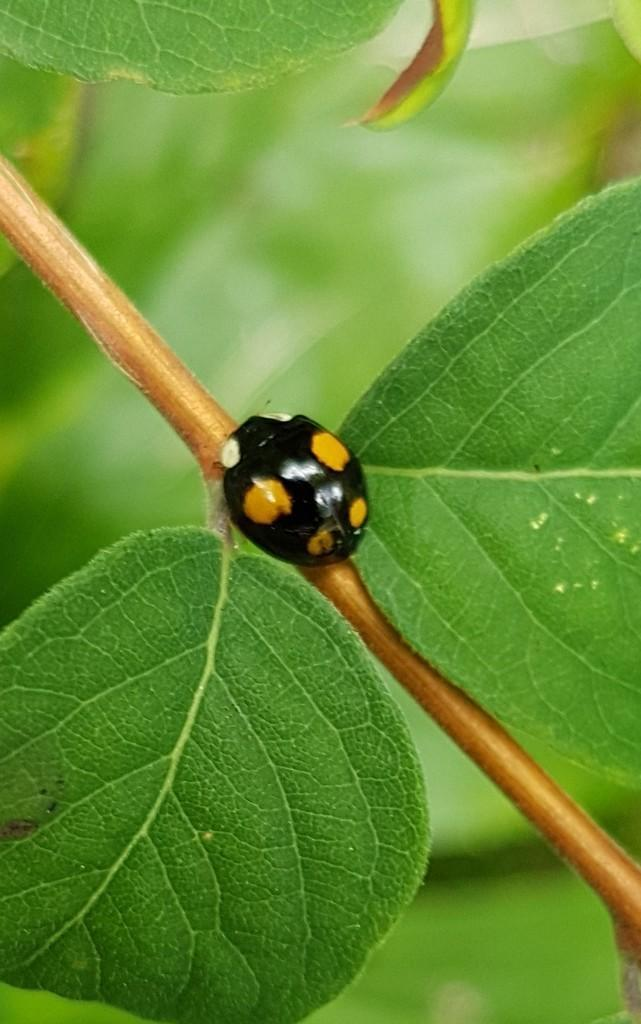ladybug: (209, 409, 379, 571)
